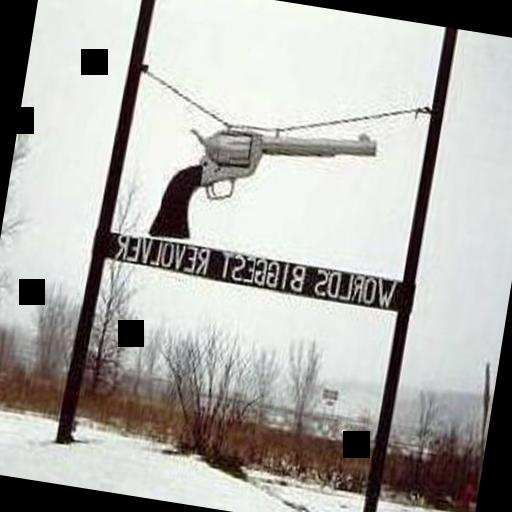Handgun: (144, 88, 380, 263)
